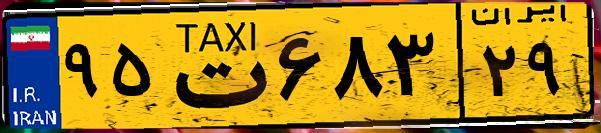2: (475, 38, 525, 113)
3: (385, 28, 445, 110)
5: (110, 28, 158, 98)
6: (270, 28, 330, 110)
8: (330, 28, 385, 110)
9: (57, 26, 110, 100), (525, 38, 570, 115)
ت: (158, 12, 270, 120)
